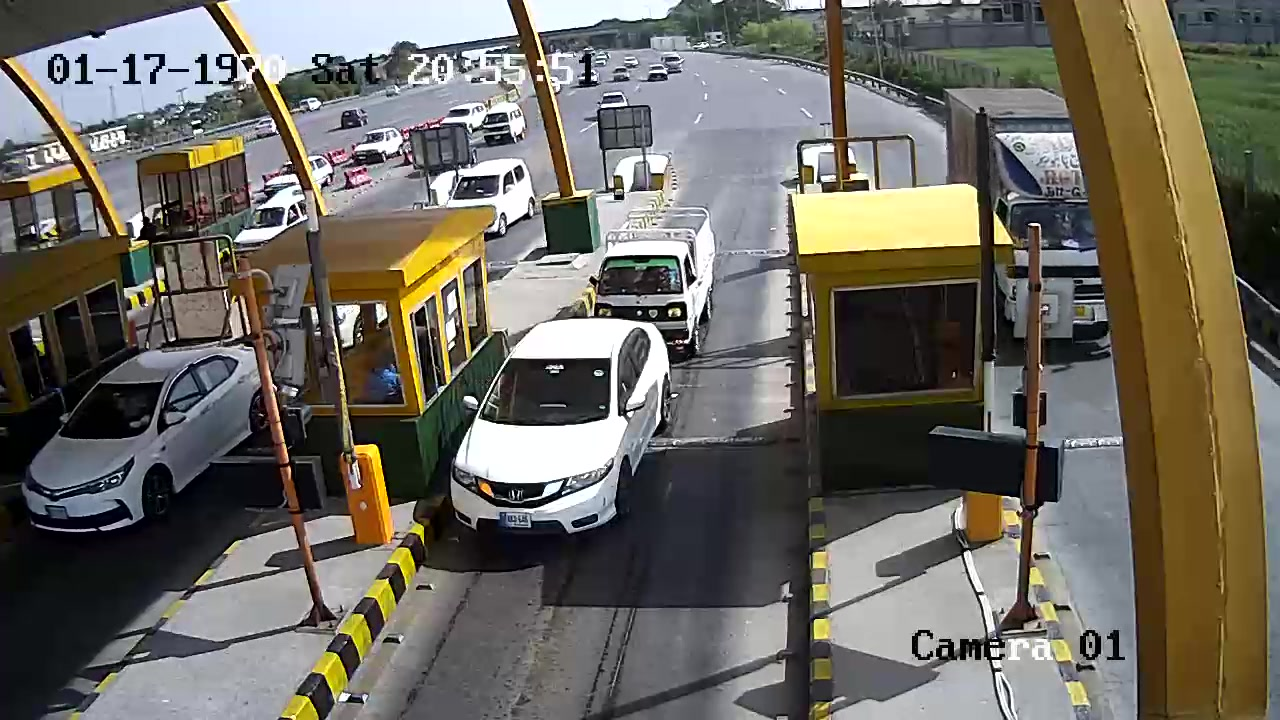F1: (447, 319, 671, 529), (593, 207, 731, 359)
